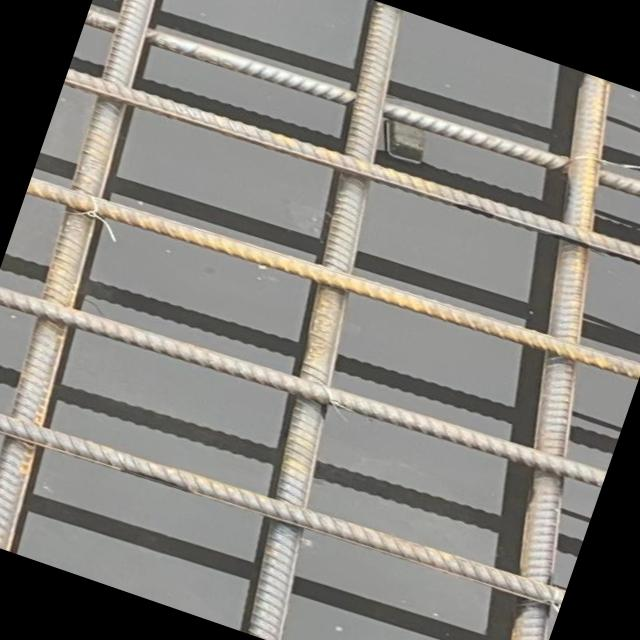ribbed bar: (159, 0, 489, 640), (369, 70, 640, 640), (25, 154, 640, 400), (0, 263, 605, 510), (62, 49, 640, 293), (0, 381, 564, 627), (83, 0, 640, 232), (0, 0, 220, 551)
